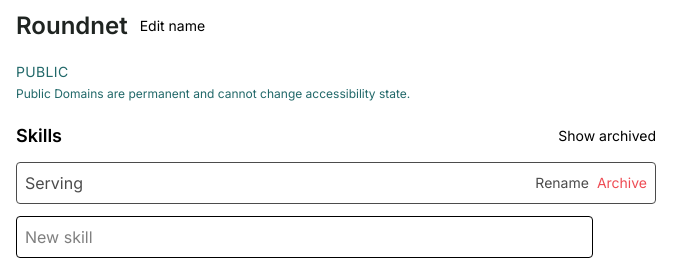
Scenario: DomainDetailPage — Skills list › archives a Skill after confirming, and removes it from the active list
Click the button with aria-label "archive Serving": [622, 183] box [597, 173, 647, 193]
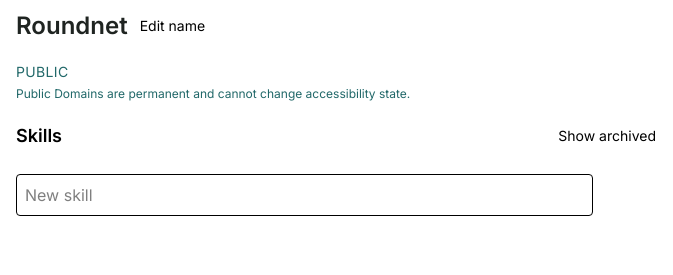
Now the text "Serving" is gone
